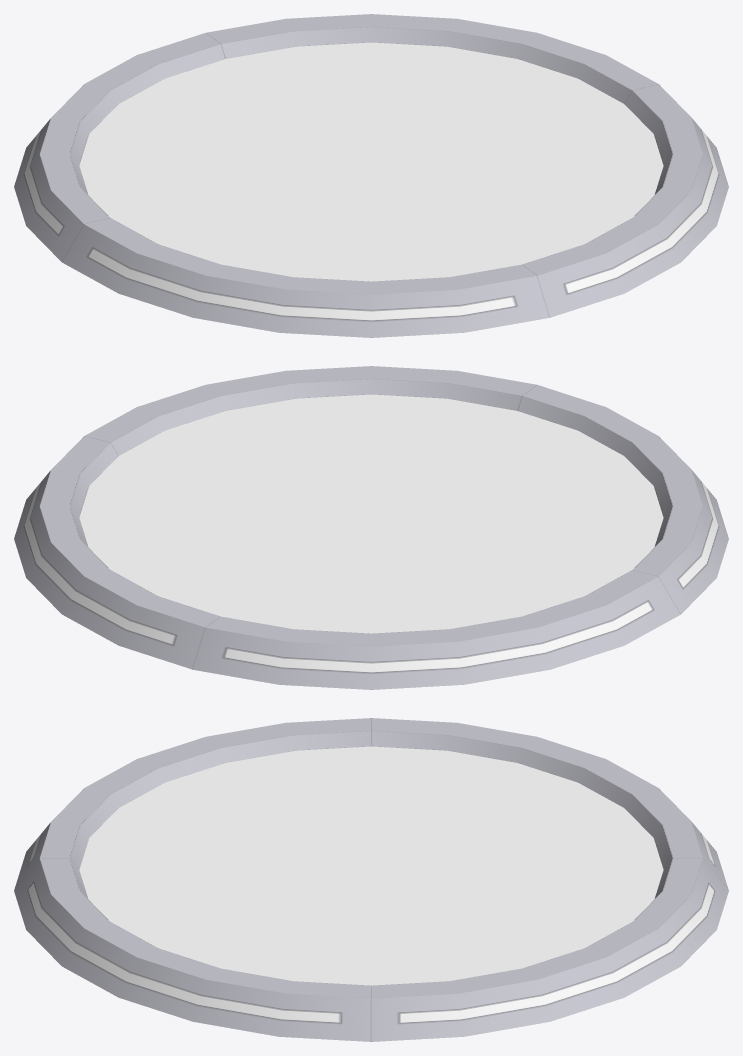
The model's file is Podium_01.FBX.
The picture shows the model from 3 angles, top to bottom: view 1: azimuth 30°, elevation 25°; view 2: azimuth 150°, elevation 25°; view 3: azimuth 270°, elevation 25°; orthographic projection.
Visible parts, largest first — view 1: Podium_01; view 2: Podium_01; view 3: Podium_01.
Part boxes in pixels (x1,y1,x2,y2): Podium_01: (14, 14, 728, 337); Podium_01: (14, 366, 728, 689); Podium_01: (14, 718, 728, 1041).
Size of the model in its own units: 4.99 by 0.2508 by 4.99.
Materials: 1 (1 with a texture image).
